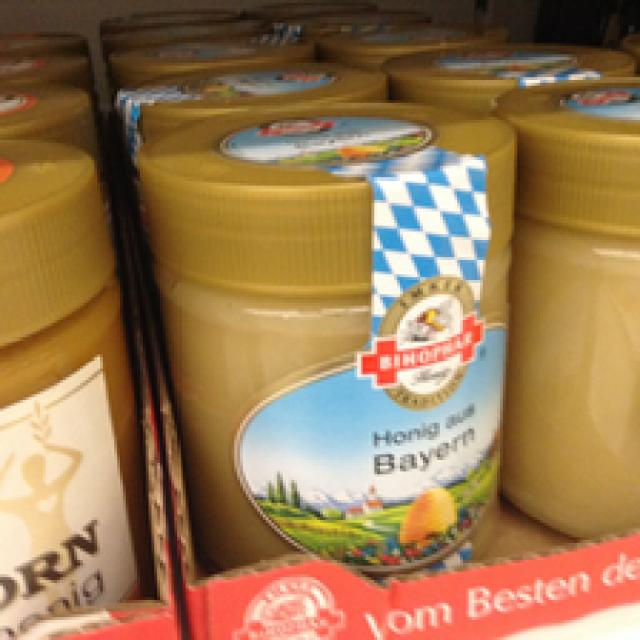groceries: (137, 97, 517, 606), (0, 131, 137, 620), (497, 80, 637, 540)
